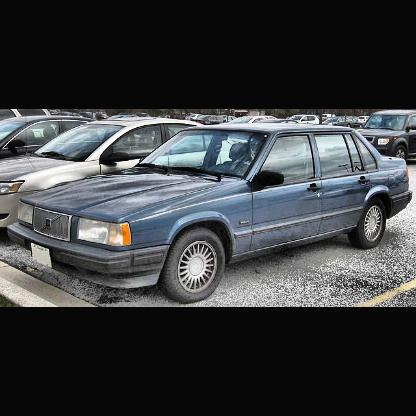Volvo 240 Sedan 1993: (6, 122, 413, 302)
